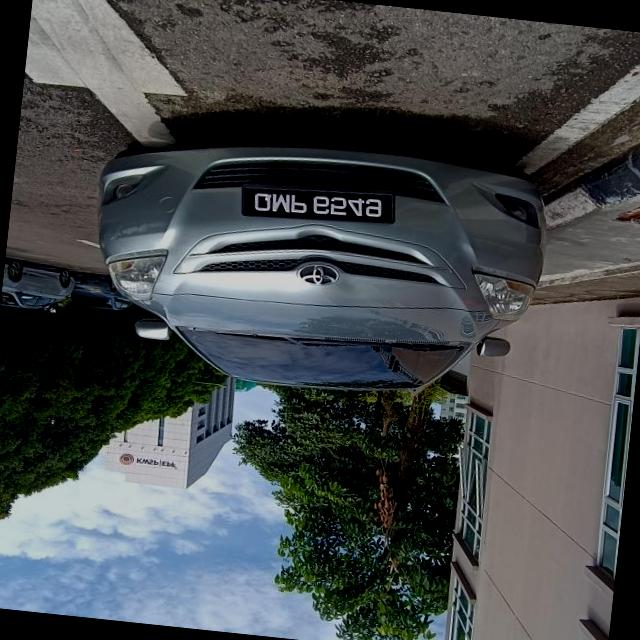ToyotaVios: (78, 122, 554, 414)
